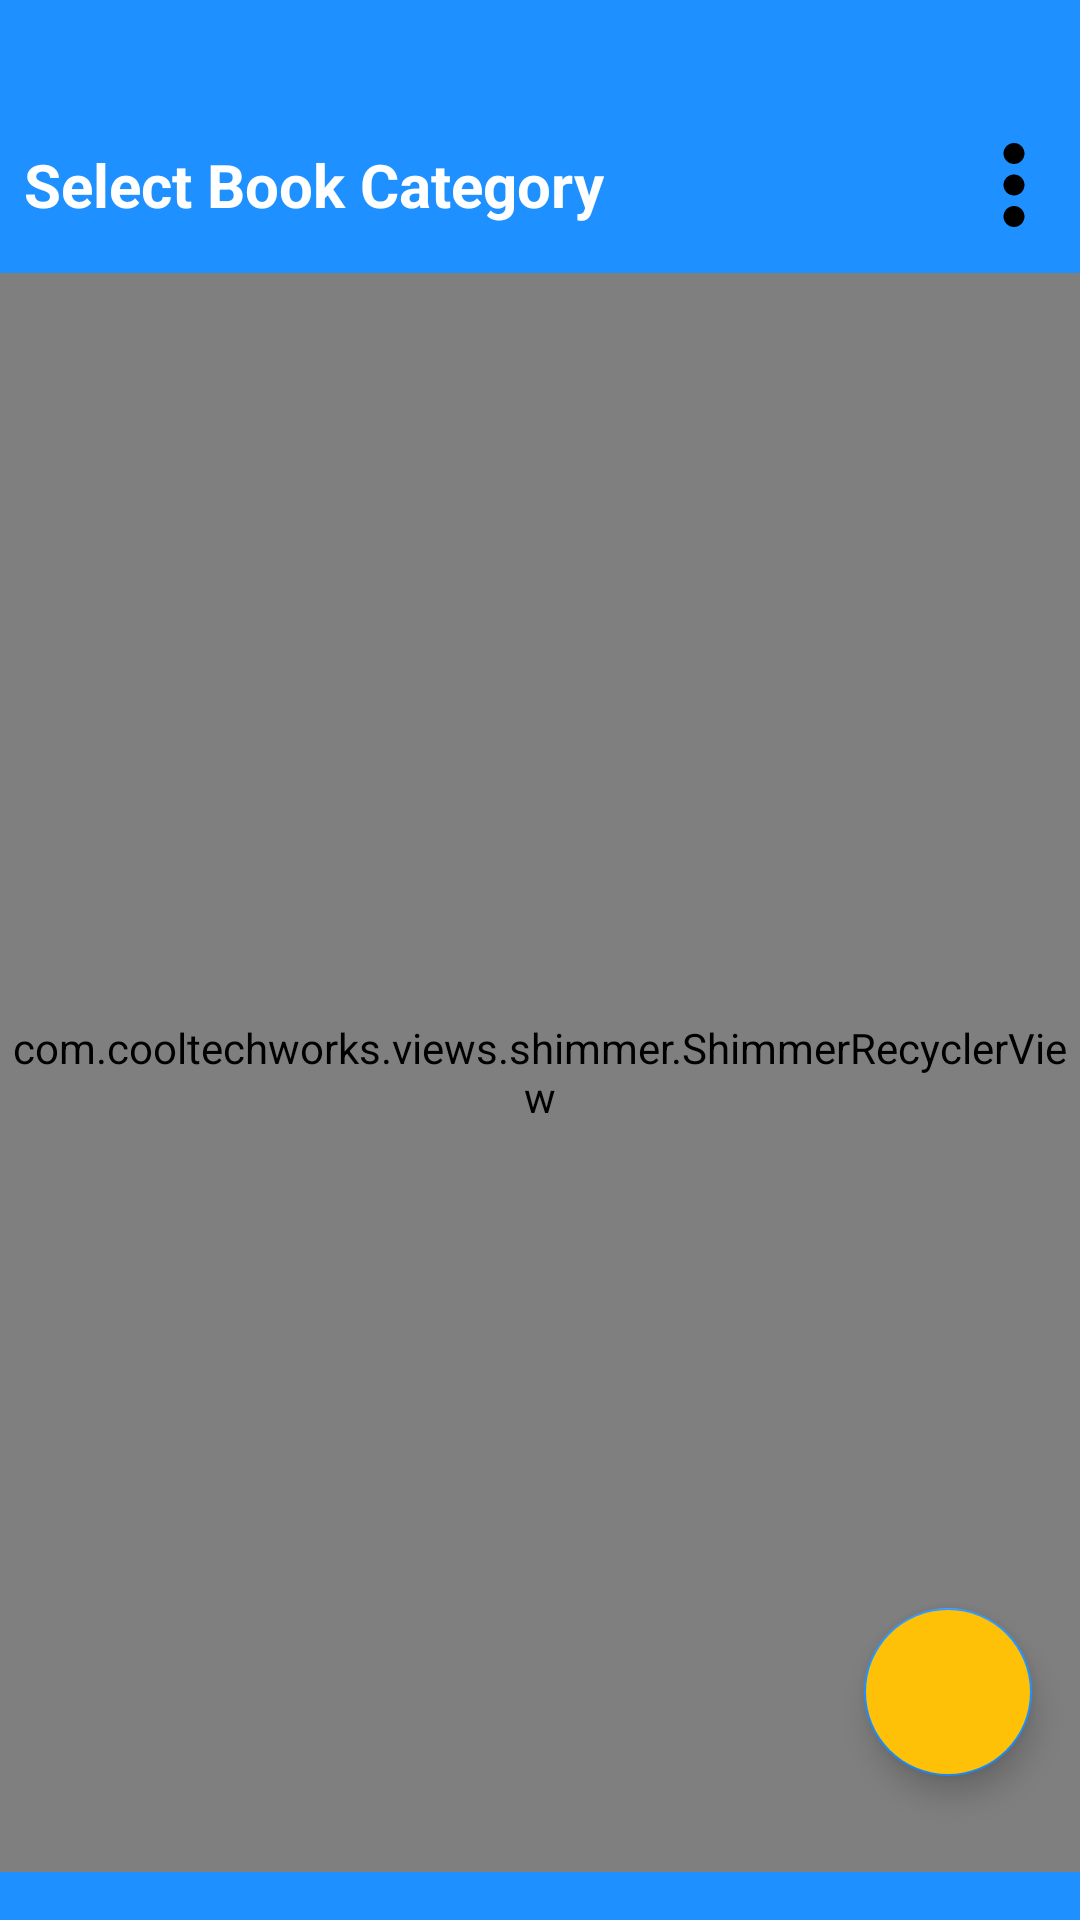

Icon click points for this 1080 × 1920 phone screenshot, format (x=x, y=y):
menu: (x=1014, y=185)
